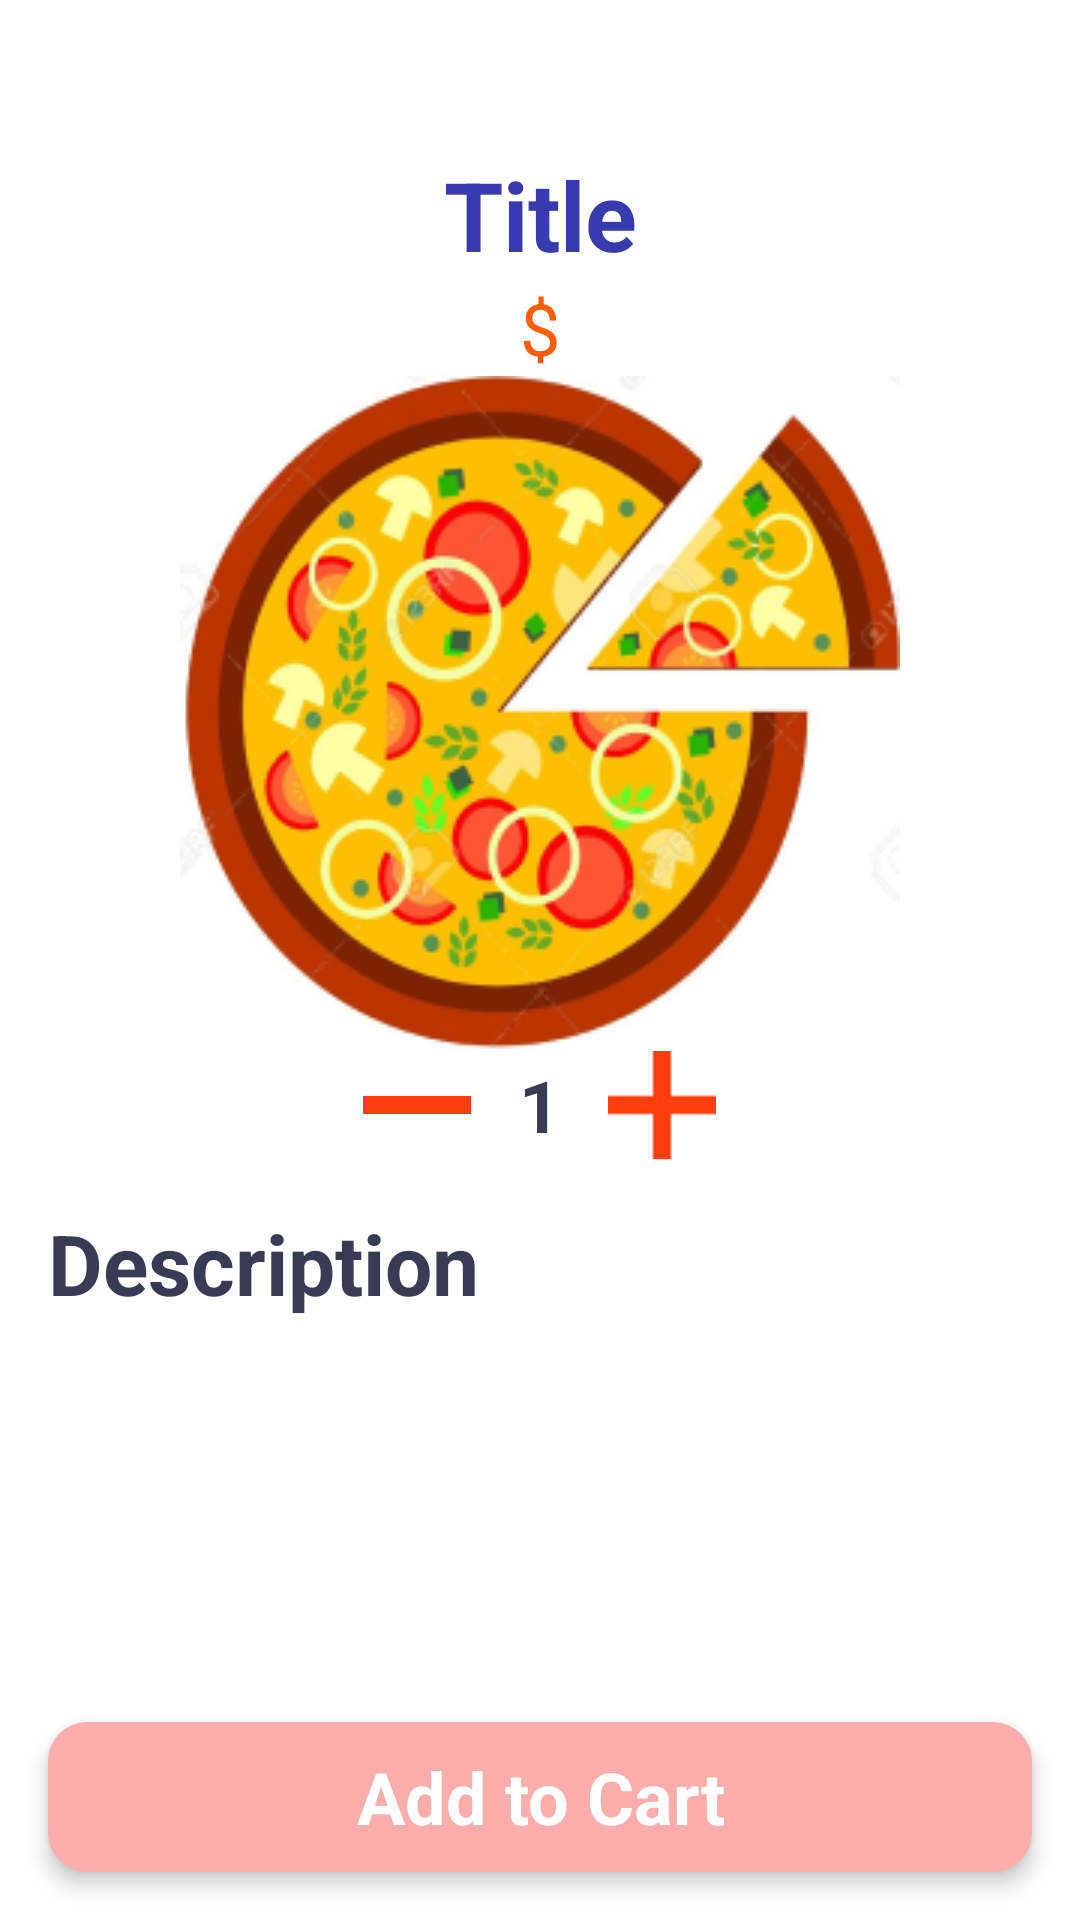

Where icons sit on this 1080 × 1920 app screen, as (x1, y1, x2, y2):
plus: (608, 1051, 716, 1159)
